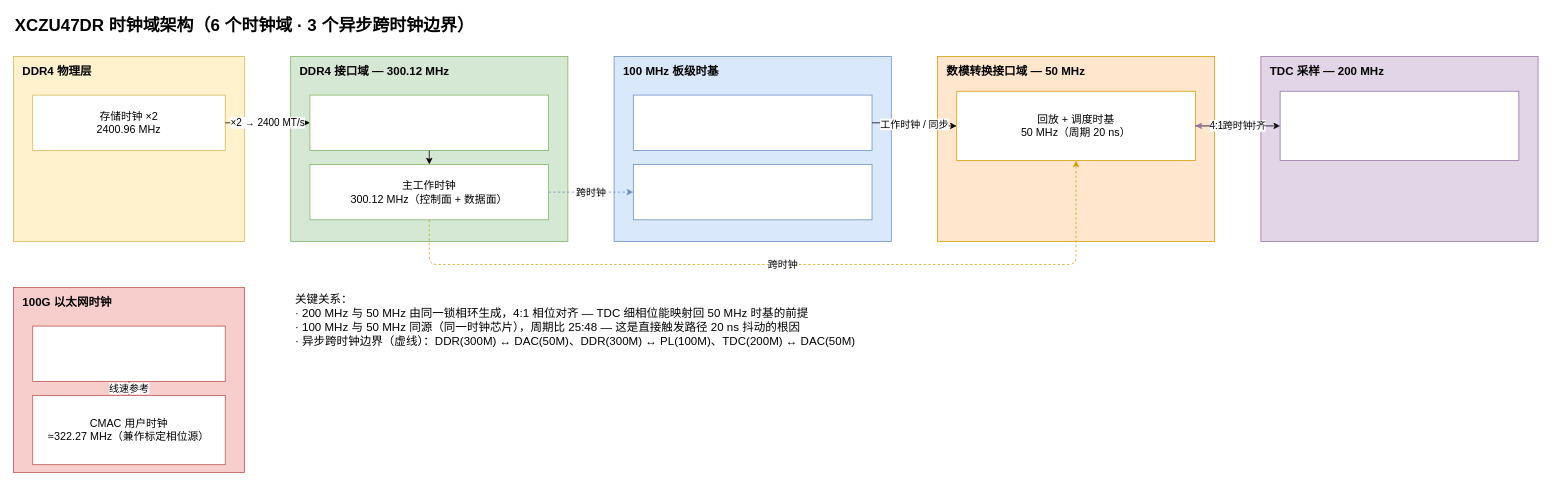
Some shapes in this 1552 by 486 pixel diagram are drawn without their labels. The centre of each missing label's shape, as x and y in pixels:
QSFP28 参考时钟 156.25 MHz: the point at 128,353
基础设施时钟 300.12 MHz: the point at 429,122
处理器控制时钟 100 MHz: the point at 752,192
延迟线采样时钟 200 MHz（相位锁定生成）: the point at 1399,125
时钟芯片输出时钟 100 MHz: the point at 752,122
